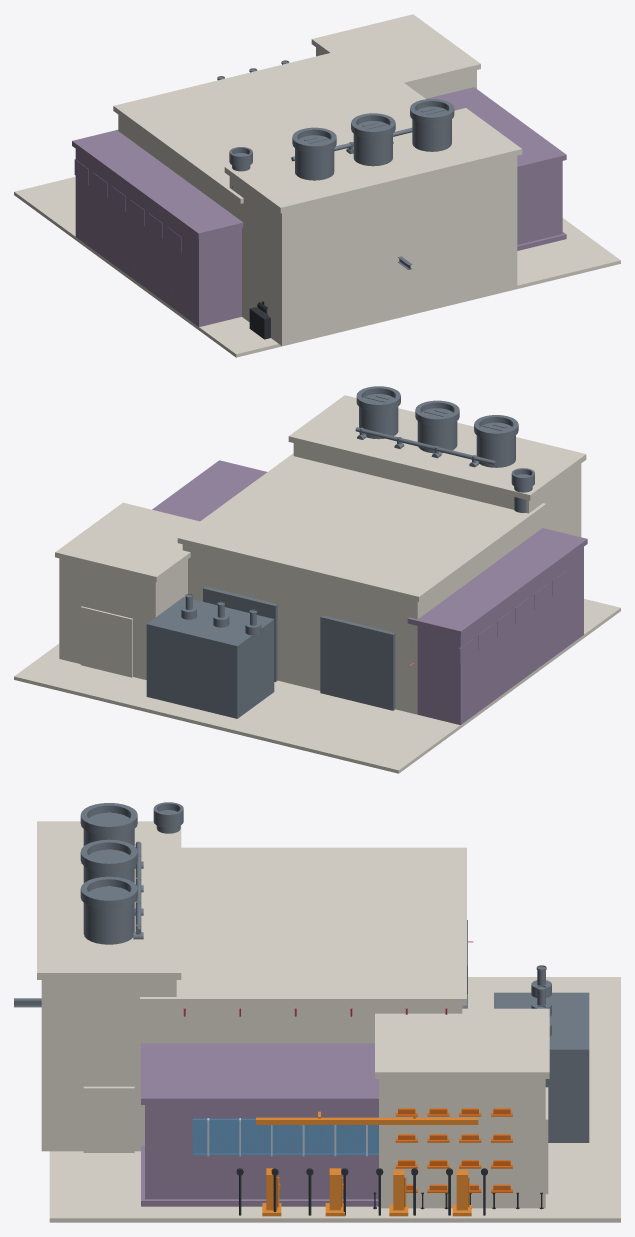
The model's file is hq_09_commercial_l5.glb.
The picture shows the model from 3 angles, top to bottom: view 1: azimuth 30°, elevation 25°; view 2: azimuth 150°, elevation 25°; view 3: azimuth 270°, elevation 25°; orthographic projection. The views are drawn at different scales.
Visible parts, largest first — view 1: GEO_Commercial_Powertrain_Cell_Shell, GEO_Commercial_Service_Depot_Shell, GEO_Commercial_Shaker_Rig_Shell, GEO_Commercial_Foundation_Plinth, GEO_Commercial_Battery_Swap_Shell, GEO_Commercial_Dispatch_Halls, GEO_Commercial_Cooling_Towers, GEO_Commercial_HPU_Pumping_Skid, GEO_Commercial_Soot_Exhaust_Stack; view 2: GEO_Commercial_Service_Depot_Shell, GEO_Commercial_Shaker_Rig_Shell, GEO_Commercial_Foundation_Plinth, GEO_Commercial_Battery_Swap_Shell, GEO_Commercial_Powertrain_Cell_Shell, GEO_Commercial_Dust_Ingress_Chamber, GEO_Commercial_HighClearance_Doors, GEO_Commercial_Cooling_Towers, GEO_Commercial_Dispatch_Halls, GEO_Commercial_Soot_Exhaust_Stack; view 3: GEO_Commercial_Service_Depot_Shell, GEO_Commercial_Dispatch_Halls, GEO_Commercial_Powertrain_Cell_Shell, GEO_Commercial_Battery_Swap_Shell, GEO_Commercial_Foundation_Plinth, GEO_Commercial_Cooling_Towers, GEO_Commercial_Dust_Ingress_Chamber, GEO_Commercial_Dispatch_Glass, GEO_Commercial_Megawatt_Charging_Gantry, GEO_Commercial_Battery_Storage_Racks, GEO_Commercial_Brake_Tester_And_Spreader, GEO_Commercial_Soot_Exhaust_Stack.
Boxes of the visible parts, x1=… form: GEO_Commercial_Powertrain_Cell_Shell: x1=224, y1=108, x2=522, y2=345; GEO_Commercial_Service_Depot_Shell: x1=113, y1=47, x2=425, y2=218; GEO_Commercial_Shaker_Rig_Shell: x1=72, y1=129, x2=243, y2=326; GEO_Commercial_Foundation_Plinth: x1=14, y1=176, x2=620, y2=357; GEO_Commercial_Battery_Swap_Shell: x1=311, y1=14, x2=480, y2=98; GEO_Commercial_Dispatch_Halls: x1=426, y1=87, x2=566, y2=250; GEO_Commercial_Cooling_Towers: x1=291, y1=99, x2=454, y2=269; GEO_Commercial_HPU_Pumping_Skid: x1=249, y1=301, x2=270, y2=339; GEO_Commercial_Soot_Exhaust_Stack: x1=229, y1=147, x2=252, y2=187; GEO_Commercial_Service_Depot_Shell: x1=177, y1=453, x2=546, y2=714; GEO_Commercial_Shaker_Rig_Shell: x1=407, y1=528, x2=587, y2=724; GEO_Commercial_Foundation_Plinth: x1=14, y1=599, x2=620, y2=773; GEO_Commercial_Battery_Swap_Shell: x1=55, y1=502, x2=199, y2=679; GEO_Commercial_Powertrain_Cell_Shell: x1=288, y1=395, x2=586, y2=537; GEO_Commercial_Dust_Ingress_Chamber: x1=146, y1=594, x2=274, y2=718; GEO_Commercial_HighClearance_Doors: x1=203, y1=587, x2=395, y2=710; GEO_Commercial_Cooling_Towers: x1=355, y1=386, x2=518, y2=467; GEO_Commercial_Dispatch_Halls: x1=152, y1=460, x2=267, y2=521; GEO_Commercial_Soot_Exhaust_Stack: x1=511, y1=468, x2=534, y2=512; GEO_Commercial_Service_Depot_Shell: x1=140, y1=847, x2=466, y2=1043; GEO_Commercial_Dispatch_Halls: x1=141, y1=1043, x2=378, y2=1206; GEO_Commercial_Powertrain_Cell_Shell: x1=37, y1=821, x2=181, y2=1152; GEO_Commercial_Battery_Swap_Shell: x1=375, y1=1008, x2=549, y2=1208; GEO_Commercial_Foundation_Plinth: x1=49, y1=977, x2=620, y2=1222; GEO_Commercial_Cooling_Towers: x1=14, y1=803, x2=143, y2=1007; GEO_Commercial_Dust_Ingress_Chamber: x1=494, y1=965, x2=589, y2=1142; GEO_Commercial_Dispatch_Glass: x1=192, y1=1118, x2=378, y2=1154; GEO_Commercial_Megawatt_Charging_Gantry: x1=256, y1=1111, x2=478, y2=1216; GEO_Commercial_Battery_Storage_Racks: x1=395, y1=1108, x2=512, y2=1192; GEO_Commercial_Brake_Tester_And_Spreader: x1=236, y1=1168, x2=543, y2=1215; GEO_Commercial_Soot_Exhaust_Stack: x1=153, y1=802, x2=183, y2=833.
Size of what is drawn, in the model's own units: 36.2 by 16 by 38.25.
